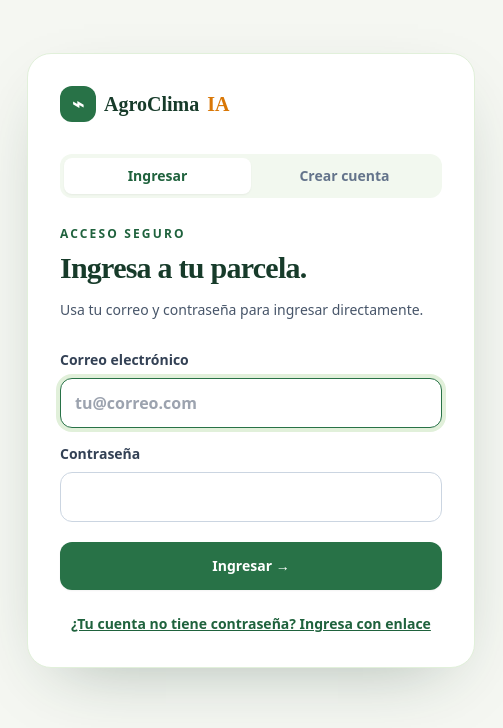
Test: Login › rechaza contraseñas que no coinciden
This screenshot has width=503, height=728.
Click the tab "Crear cuenta" at (344, 176), box [251,158,438,194]
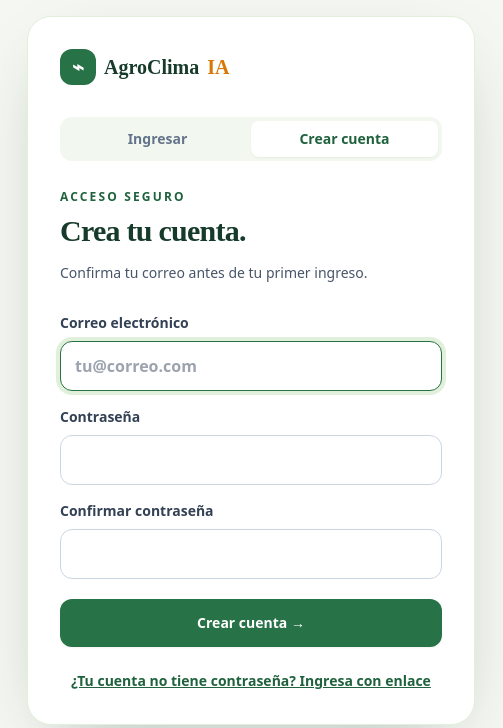
Type "nuevo@oxitech.dev" into the field labelled "Correo electrónico" at (251, 366), box [60,341,442,391]
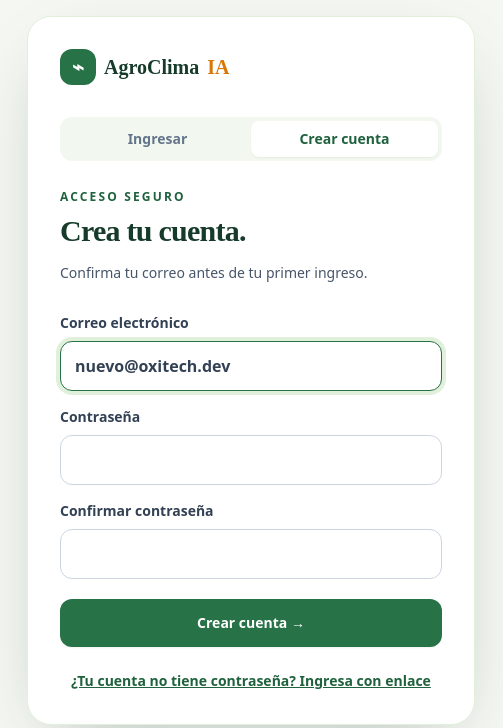
Type "uno" into the password field labelled "Contraseña" at (251, 460), box [60,435,442,485]
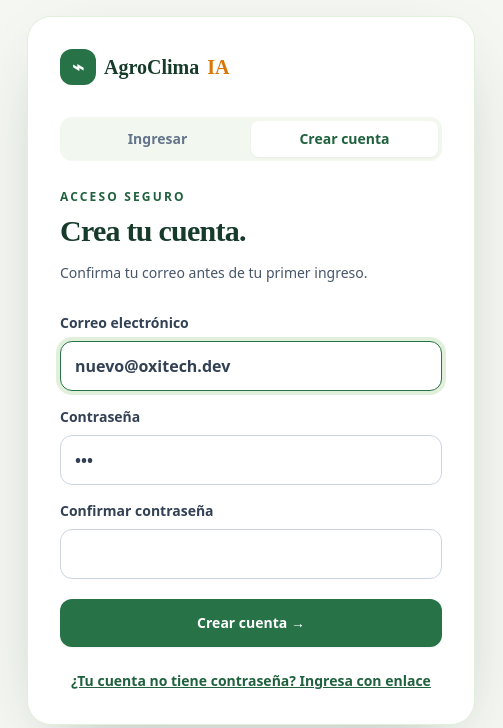
Type "dos" into the password field labelled "Confirmar contraseña" at (251, 554), box [60,529,442,579]
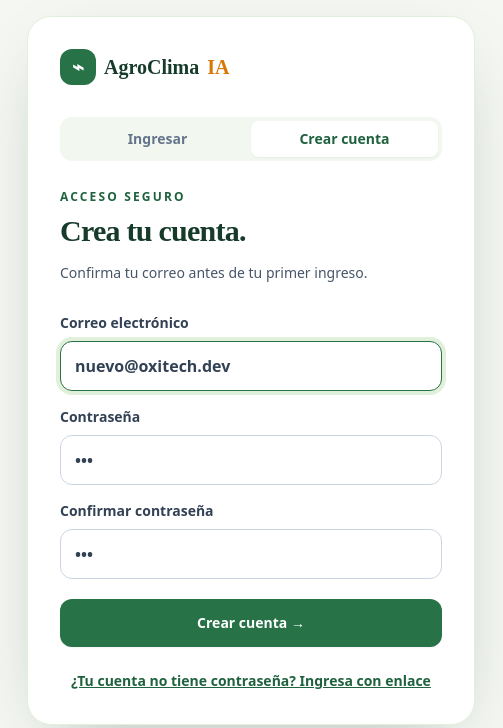
Click the button "Crear cuenta →" at (251, 623), box [60,599,442,647]
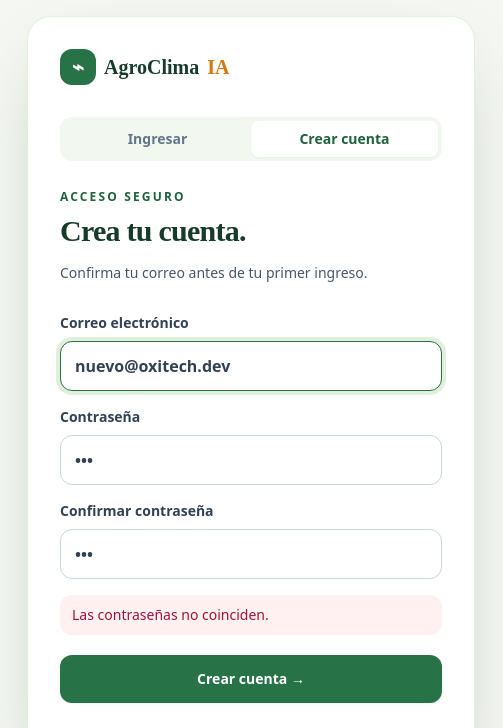
Check: the text "Las contraseñas no coinciden." is shown, box [60,595,442,635]
